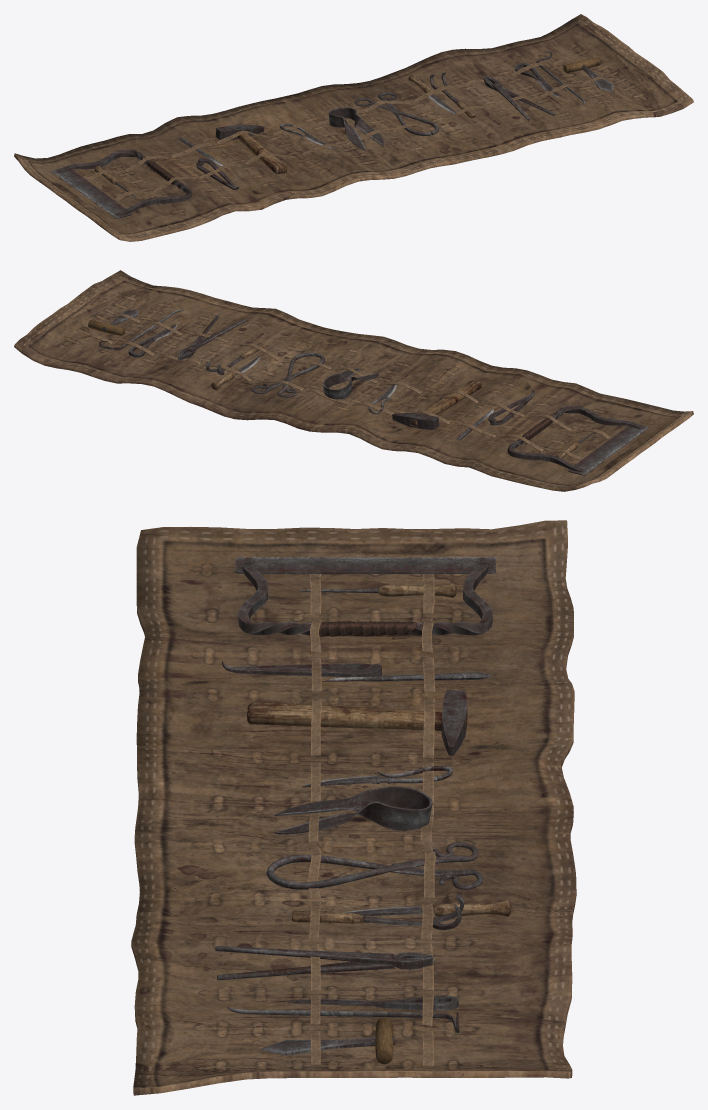
3 views of the same model, one above another, from view 1: azimuth 30°, elevation 25°; view 2: azimuth 150°, elevation 25°; view 3: azimuth 270°, elevation 25° (orthographic). The views are drawn at different scales.
Parts seen in each view (by area): view 1: tortureTool.014, tortureTool.012, tortureTool.004, tortureTool.001, tortureTool.011, tortureTool.008, tortureTool.010, tortureTool.006; view 2: tortureTool.014, tortureTool.012, tortureTool.004, tortureTool.001, tortureTool.011, tortureTool.010, tortureTool.008, tortureTool.006, tortureTool.007; view 3: tortureTool.014, tortureTool.012, tortureTool.004, tortureTool.001, tortureTool.011, tortureTool.010, tortureTool.008, tortureTool.006, tortureTool.002, tortureTool.013, tortureTool.007, tortureTool (+3 smaller).
Boxes of the visible parts, x1=… form: tortureTool.014: x1=14, y1=14, x2=693, y2=241; tortureTool.012: x1=52, y1=149, x2=192, y2=218; tortureTool.004: x1=215, y1=124, x2=287, y2=173; tortureTool.001: x1=328, y1=107, x2=384, y2=150; tortureTool.011: x1=355, y1=92, x2=438, y2=135; tortureTool.008: x1=563, y1=57, x2=613, y2=92; tortureTool.010: x1=483, y1=76, x2=555, y2=120; tortureTool.006: x1=196, y1=158, x2=238, y2=189; tortureTool.014: x1=14, y1=270, x2=693, y2=491; tortureTool.012: x1=507, y1=405, x2=648, y2=475; tortureTool.004: x1=392, y1=380, x2=481, y2=429; tortureTool.001: x1=323, y1=368, x2=379, y2=399; tortureTool.011: x1=251, y1=352, x2=324, y2=397; tortureTool.010: x1=178, y1=315, x2=245, y2=360; tortureTool.008: x1=88, y1=309, x2=138, y2=335; tortureTool.006: x1=488, y1=390, x2=534, y2=425; tortureTool.007: x1=128, y1=324, x2=176, y2=357; tortureTool.014: x1=131, y1=520, x2=576, y2=1095; tortureTool.012: x1=235, y1=556, x2=495, y2=636; tortureTool.004: x1=247, y1=689, x2=467, y2=755; tortureTool.001: x1=274, y1=786, x2=432, y2=834; tortureTool.011: x1=266, y1=842, x2=483, y2=889; tortureTool.010: x1=215, y1=946, x2=432, y2=980; tortureTool.008: x1=261, y1=1017, x2=394, y2=1064; tortureTool.006: x1=222, y1=661, x2=381, y2=677; tortureTool.002: x1=292, y1=893, x2=464, y2=930; tortureTool.013: x1=342, y1=899, x2=511, y2=916; tortureTool.007: x1=287, y1=995, x2=458, y2=1010; tortureTool: x1=227, y1=1007, x2=459, y2=1033.
Bounding box in the file's own units: 407 × 14.97 × 137.
Materials: 1 (1 with a texture image).
